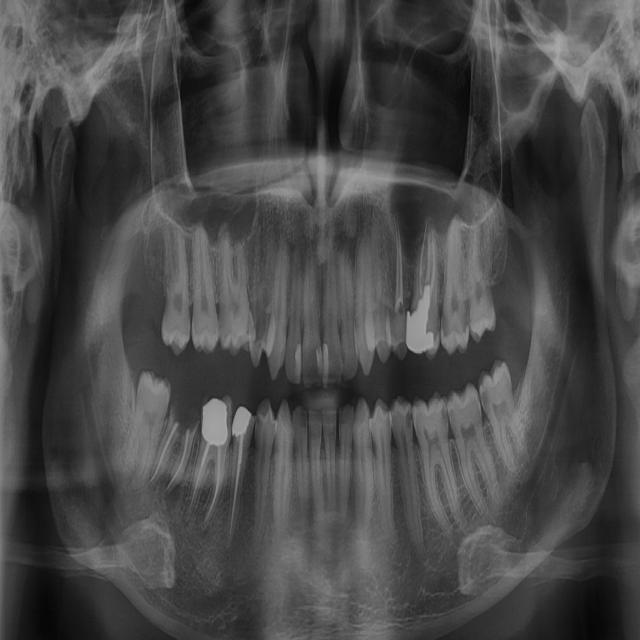Caries: (250, 303, 268, 357), (460, 294, 468, 332), (246, 309, 255, 338), (482, 384, 490, 416), (441, 311, 450, 339), (226, 397, 233, 432), (404, 402, 413, 428), (441, 399, 448, 431), (340, 342, 346, 362), (256, 413, 261, 433), (386, 411, 390, 428)
Filling: (406, 285, 434, 353), (202, 398, 228, 448), (394, 304, 406, 344), (322, 341, 329, 385), (295, 344, 301, 382), (318, 344, 322, 379)
Periapical lesion: (154, 473, 181, 505), (182, 511, 190, 524), (199, 527, 208, 537)
Root Canal Treatment: (203, 445, 222, 523), (229, 463, 241, 535), (186, 468, 202, 516), (396, 216, 404, 303), (419, 225, 426, 300), (430, 224, 435, 299), (425, 224, 430, 283), (396, 245, 399, 308)
Root Piece: (165, 414, 200, 496), (151, 405, 186, 485)
